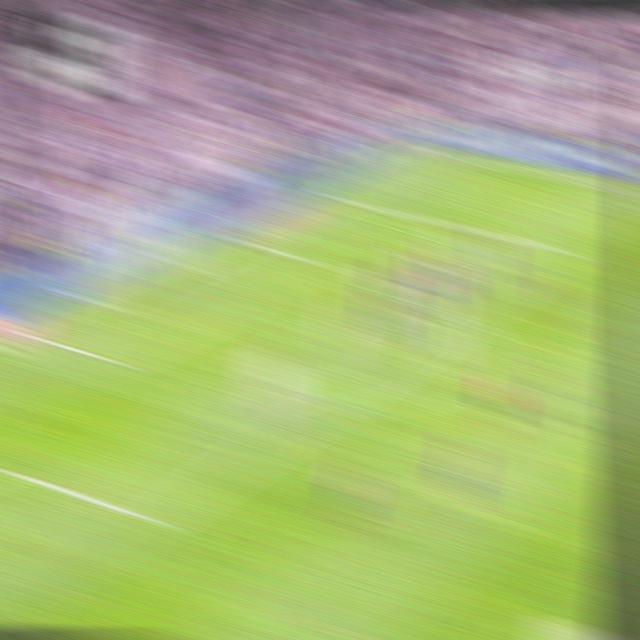bigarea_bottom_inner: (138, 502, 172, 539)
bigarea_top_inner: (551, 236, 583, 262)
bigarea_top_outter: (324, 186, 354, 209)
bottom_arc_area_intersection: (311, 389, 345, 420)
corner: (420, 144, 451, 162)
smallarea_bottom_inner: (99, 347, 131, 375)
smallarea_top_inner: (298, 247, 330, 272)
top_arc_area_intersection: (455, 300, 485, 323)
